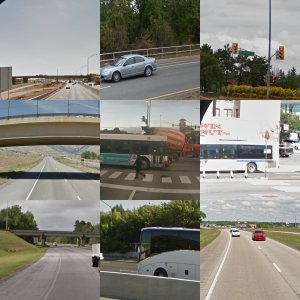公車: (134, 224, 199, 280), (200, 135, 282, 173), (101, 134, 172, 173)
汽車: (101, 51, 164, 81), (250, 227, 269, 246), (228, 228, 243, 241), (63, 84, 74, 91)
紅綠燈: (266, 43, 289, 64), (228, 41, 241, 57)
